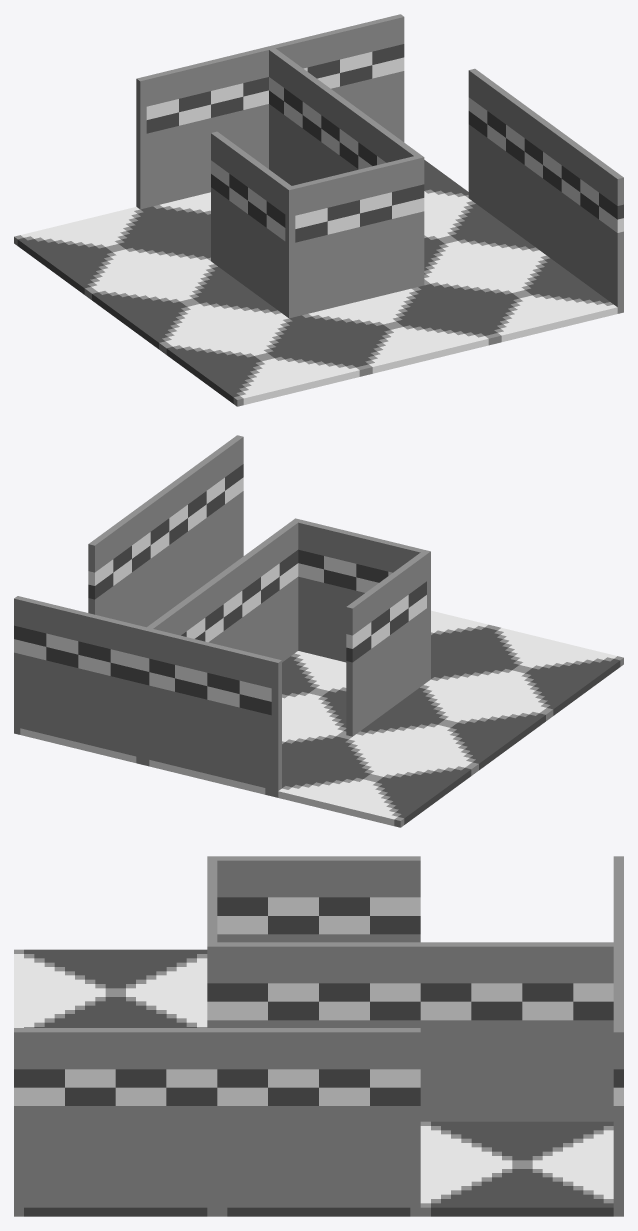
File: level_maze-7.obj
3 renders of one model, top to bottom at view 1: azimuth 30°, elevation 25°; view 2: azimuth 150°, elevation 25°; view 3: azimuth 270°, elevation 25°, orthographic. The views are drawn at different scales.
Visible parts, largest first — view 1: level_maze-7; view 2: level_maze-7; view 3: level_maze-7.
Boxes of the visible parts, <box> form: level_maze-7: <box>14,14,623,406</box>; level_maze-7: <box>14,435,623,827</box>; level_maze-7: <box>14,856,623,1216</box>.
Bounding box in the file's own units: 60 × 20 × 60.
Materials: 1 (1 with a texture image).
